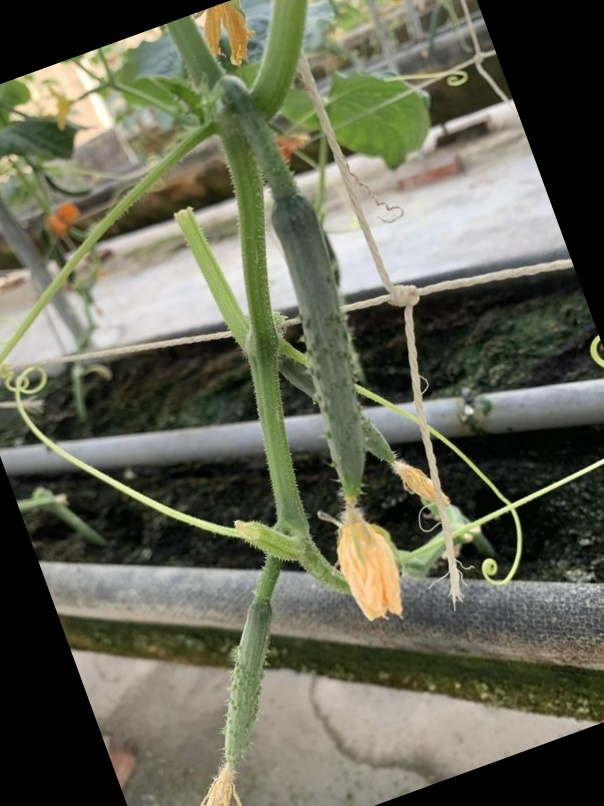bear: (190, 584, 281, 804)
growth: (264, 191, 409, 599)
